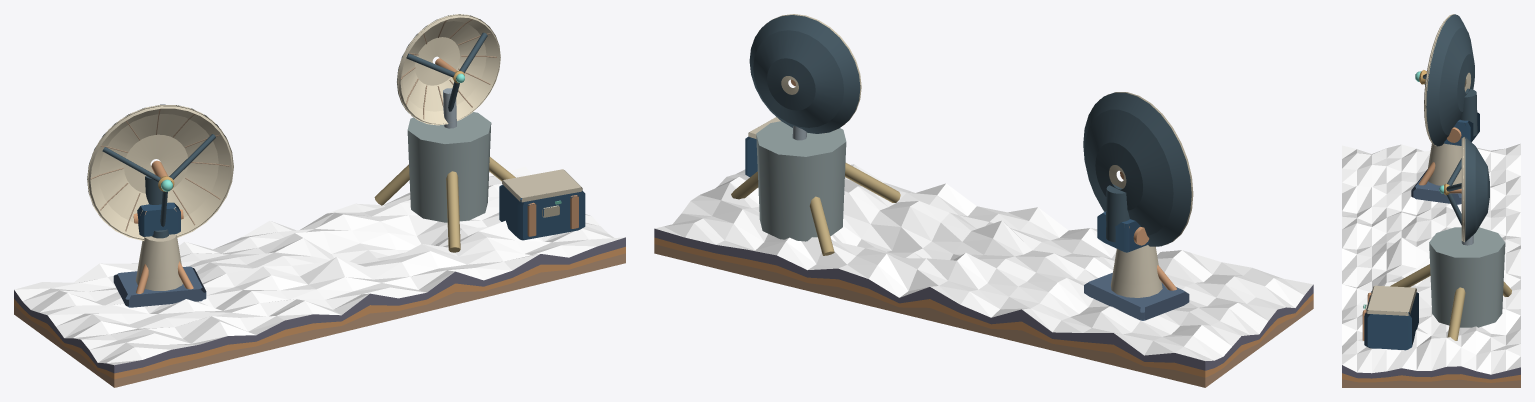
The model's file is apolo-surveyor.obj.
3 renders of one model, left to right at view 1: azimuth 30°, elevation 25°; view 2: azimuth 150°, elevation 25°; view 3: azimuth 270°, elevation 25°, orthographic. The views are drawn at different scales.
Visible parts, largest first — view 1: apolo-surveyor; view 2: apolo-surveyor; view 3: apolo-surveyor.
Part boxes in pixels (x1=…): apolo-surveyor: x1=14, y1=14, x2=625, y2=387; apolo-surveyor: x1=654, y1=14, x2=1313, y2=387; apolo-surveyor: x1=1342, y1=14, x2=1520, y2=387.
Bounding box in the file's own units: 1.56 × 0.652 × 0.53.
